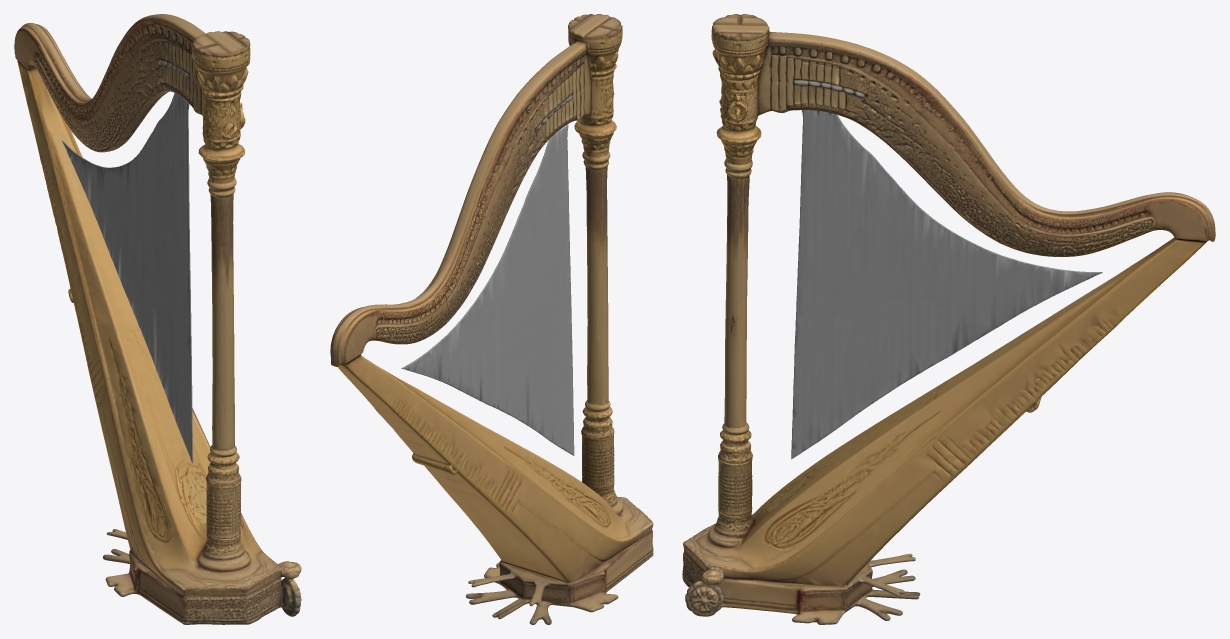
Rendered from harpa.glb.
3 renders of one model, left to right at view 1: azimuth 30°, elevation 25°; view 2: azimuth 150°, elevation 25°; view 3: azimuth 270°, elevation 25°, orthographic. The views are drawn at different scales.
Visible parts, largest first — view 1: tripo_node_ca8a44a1-8ae3-4551-9011-8493187da8bd; view 2: tripo_node_ca8a44a1-8ae3-4551-9011-8493187da8bd; view 3: tripo_node_ca8a44a1-8ae3-4551-9011-8493187da8bd.
Boxes of the visible parts, x1,y1,x2,y2 form: tripo_node_ca8a44a1-8ae3-4551-9011-8493187da8bd: [14, 14, 301, 624]; tripo_node_ca8a44a1-8ae3-4551-9011-8493187da8bd: [330, 14, 653, 624]; tripo_node_ca8a44a1-8ae3-4551-9011-8493187da8bd: [682, 14, 1215, 624].
Bounding box in the file's own units: 0.2436 × 0.9775 × 0.8333.
1 material, 1 textured.
